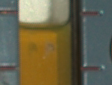border: (79, 9, 104, 19), (79, 64, 106, 73), (0, 64, 21, 73), (0, 8, 21, 16)
liquidlevel: (17, 20, 73, 35)
